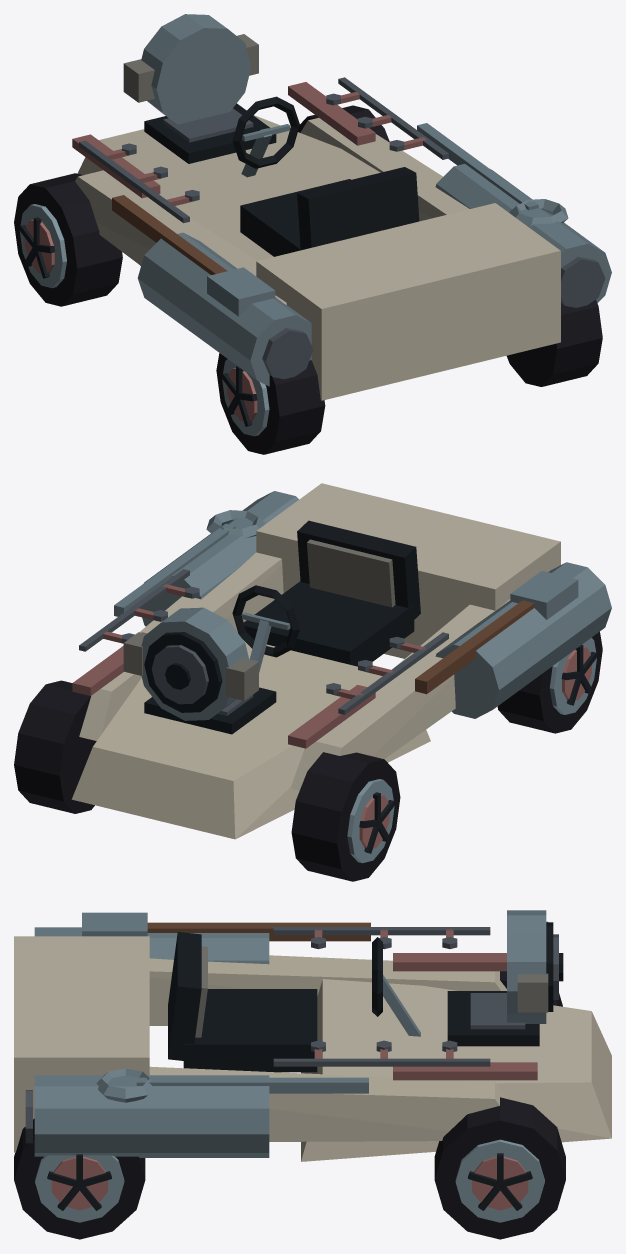
The model's file is kart.glb.
The picture shows the model from 3 angles, top to bottom: view 1: azimuth 30°, elevation 25°; view 2: azimuth 150°, elevation 25°; view 3: azimuth 270°, elevation 25°; orthographic projection. The views are drawn at different scales.
Parts seen in each view (by area): view 1: identity-lab-pod-lab-pod-segmented-shell, identity-lab-pod-driver-cockpit, identity-lab-pod-motif-optic, wheel-front-left, wheel-rear-left, identity-lab-pod-motif-tools, wheel-rear-right, identity-lab-pod-motif-circuit; view 2: identity-lab-pod-lab-pod-segmented-shell, identity-lab-pod-driver-cockpit, wheel-front-left, identity-lab-pod-motif-optic, wheel-front-right, identity-lab-pod-motif-tools, wheel-rear-left, identity-lab-pod-motif-circuit; view 3: identity-lab-pod-lab-pod-segmented-shell, identity-lab-pod-driver-cockpit, wheel-front-right, wheel-rear-right, identity-lab-pod-motif-tools, identity-lab-pod-motif-optic, identity-lab-pod-motif-circuit.
Boxes of the visible parts, bbox=[...] form: identity-lab-pod-lab-pod-segmented-shell: bbox=[72, 82, 611, 400]; identity-lab-pod-driver-cockpit: bbox=[232, 96, 419, 256]; identity-lab-pod-motif-optic: bbox=[123, 14, 258, 124]; wheel-front-left: bbox=[14, 173, 122, 306]; wheel-rear-left: bbox=[216, 353, 325, 454]; identity-lab-pod-motif-tools: bbox=[112, 123, 568, 316]; wheel-rear-right: bbox=[506, 299, 602, 386]; identity-lab-pod-motif-circuit: bbox=[79, 77, 448, 223]; identity-lab-pod-lab-pod-segmented-shell: bbox=[71, 483, 611, 839]; identity-lab-pod-driver-cockpit: bbox=[232, 520, 420, 672]; wheel-front-left: bbox=[291, 752, 400, 881]; identity-lab-pod-motif-optic: bbox=[123, 607, 258, 720]; wheel-front-right: bbox=[14, 680, 96, 813]; identity-lab-pod-motif-tools: bbox=[114, 510, 578, 694]; wheel-rear-left: bbox=[497, 631, 602, 733]; identity-lab-pod-motif-circuit: bbox=[79, 569, 448, 714]; identity-lab-pod-lab-pod-segmented-shell: bbox=[14, 927, 611, 1161]; identity-lab-pod-driver-cockpit: bbox=[168, 932, 420, 1072]; wheel-front-right: bbox=[434, 1097, 565, 1239]; wheel-rear-right: bbox=[14, 1118, 145, 1239]; identity-lab-pod-motif-tools: bbox=[82, 912, 370, 1102]; identity-lab-pod-motif-optic: bbox=[507, 910, 563, 1023]; identity-lab-pod-motif-circuit: bbox=[273, 927, 490, 1066].
Size of the model in its own units: 1.98 by 1.22 by 2.73.
